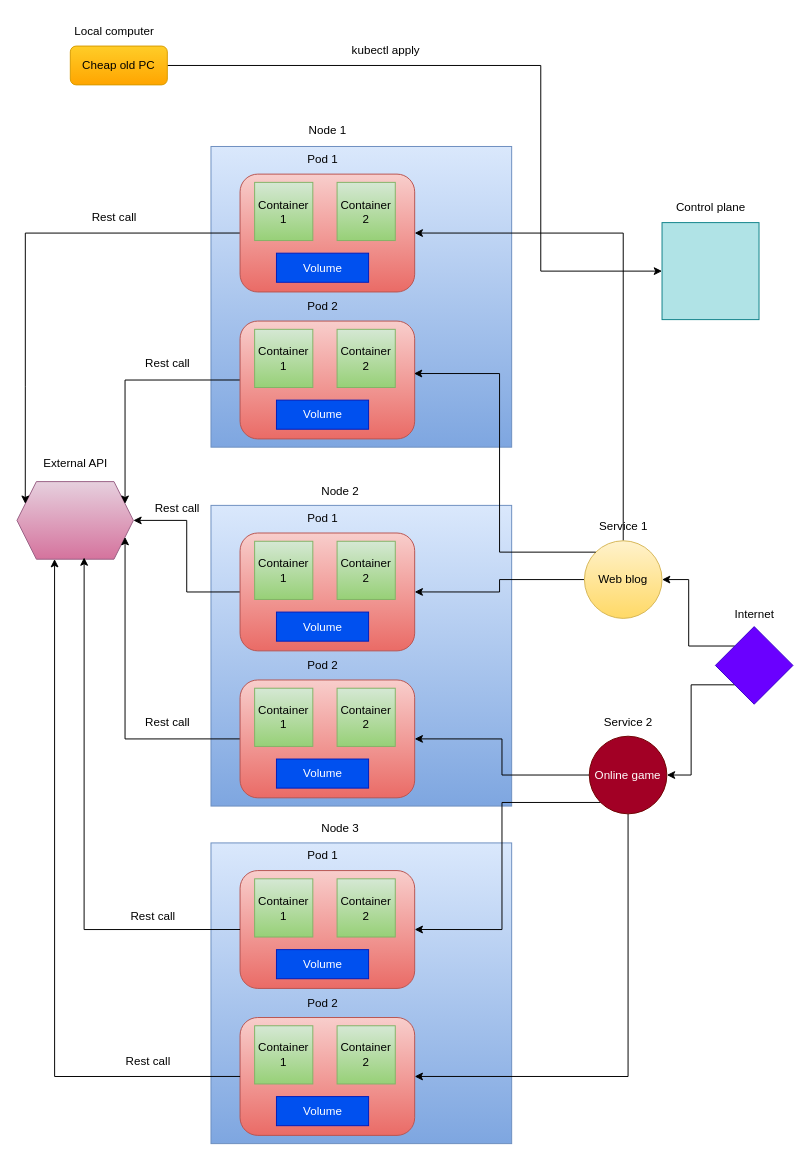
Image size: 810x1160. Some labels were removed from this diagram. Here are the shapes that lost their labels. From the top down, the centre of each, then its label:
(x=710, y=271): Manager, scheduler, etc.
(x=74, y=520): Payment API
(x=753, y=665): HTTP request
